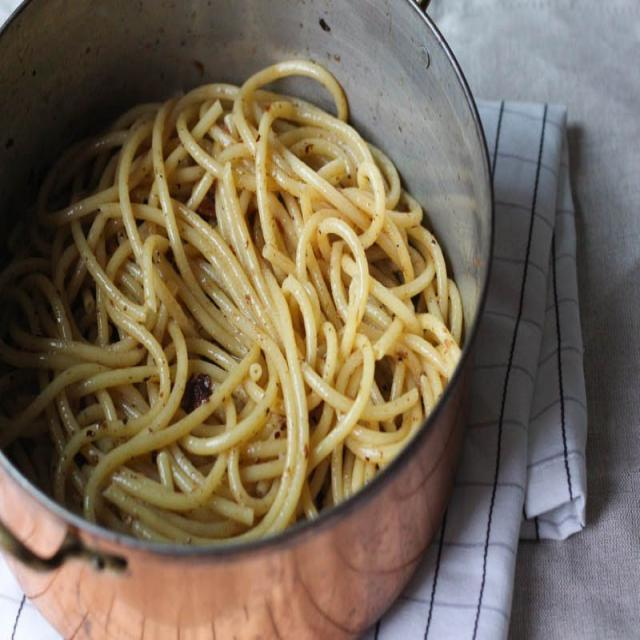Oil pasta: (11, 58, 474, 576)
